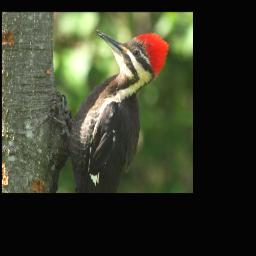Woodpecker: (50, 29, 169, 192)
